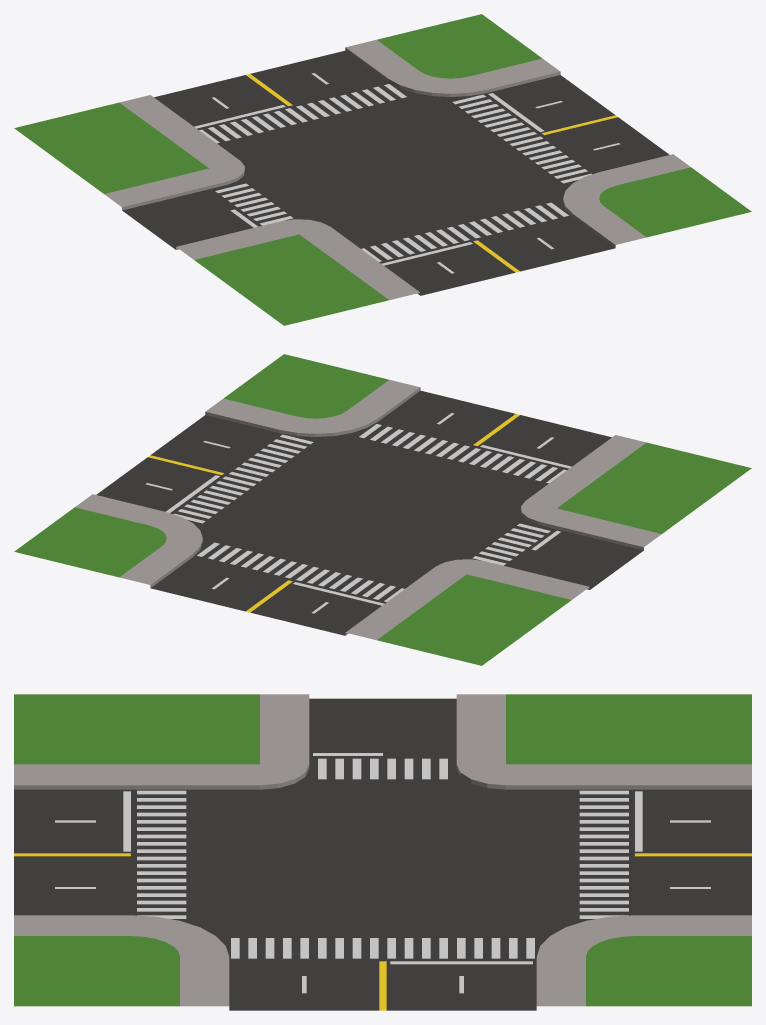
The model's file is tiles-nb_tile-mainroad-road-intersection-nb.fbx.
The picture shows the model from 3 angles, top to bottom: view 1: azimuth 30°, elevation 25°; view 2: azimuth 150°, elevation 25°; view 3: azimuth 270°, elevation 25°; orthographic projection. The views are drawn at different scales.
Visible parts, largest first — view 1: tiles_nb_tile_mainroad_road_intersection_nb; view 2: tiles_nb_tile_mainroad_road_intersection_nb; view 3: tiles_nb_tile_mainroad_road_intersection_nb.
Boxes of the visible parts, x1,y1,x2,y2 form: tiles_nb_tile_mainroad_road_intersection_nb: (14,14,751,325); tiles_nb_tile_mainroad_road_intersection_nb: (14,354,751,665); tiles_nb_tile_mainroad_road_intersection_nb: (14,694,751,1010).
Bounding box in the file's own units: 200 × 1.33 × 200.
